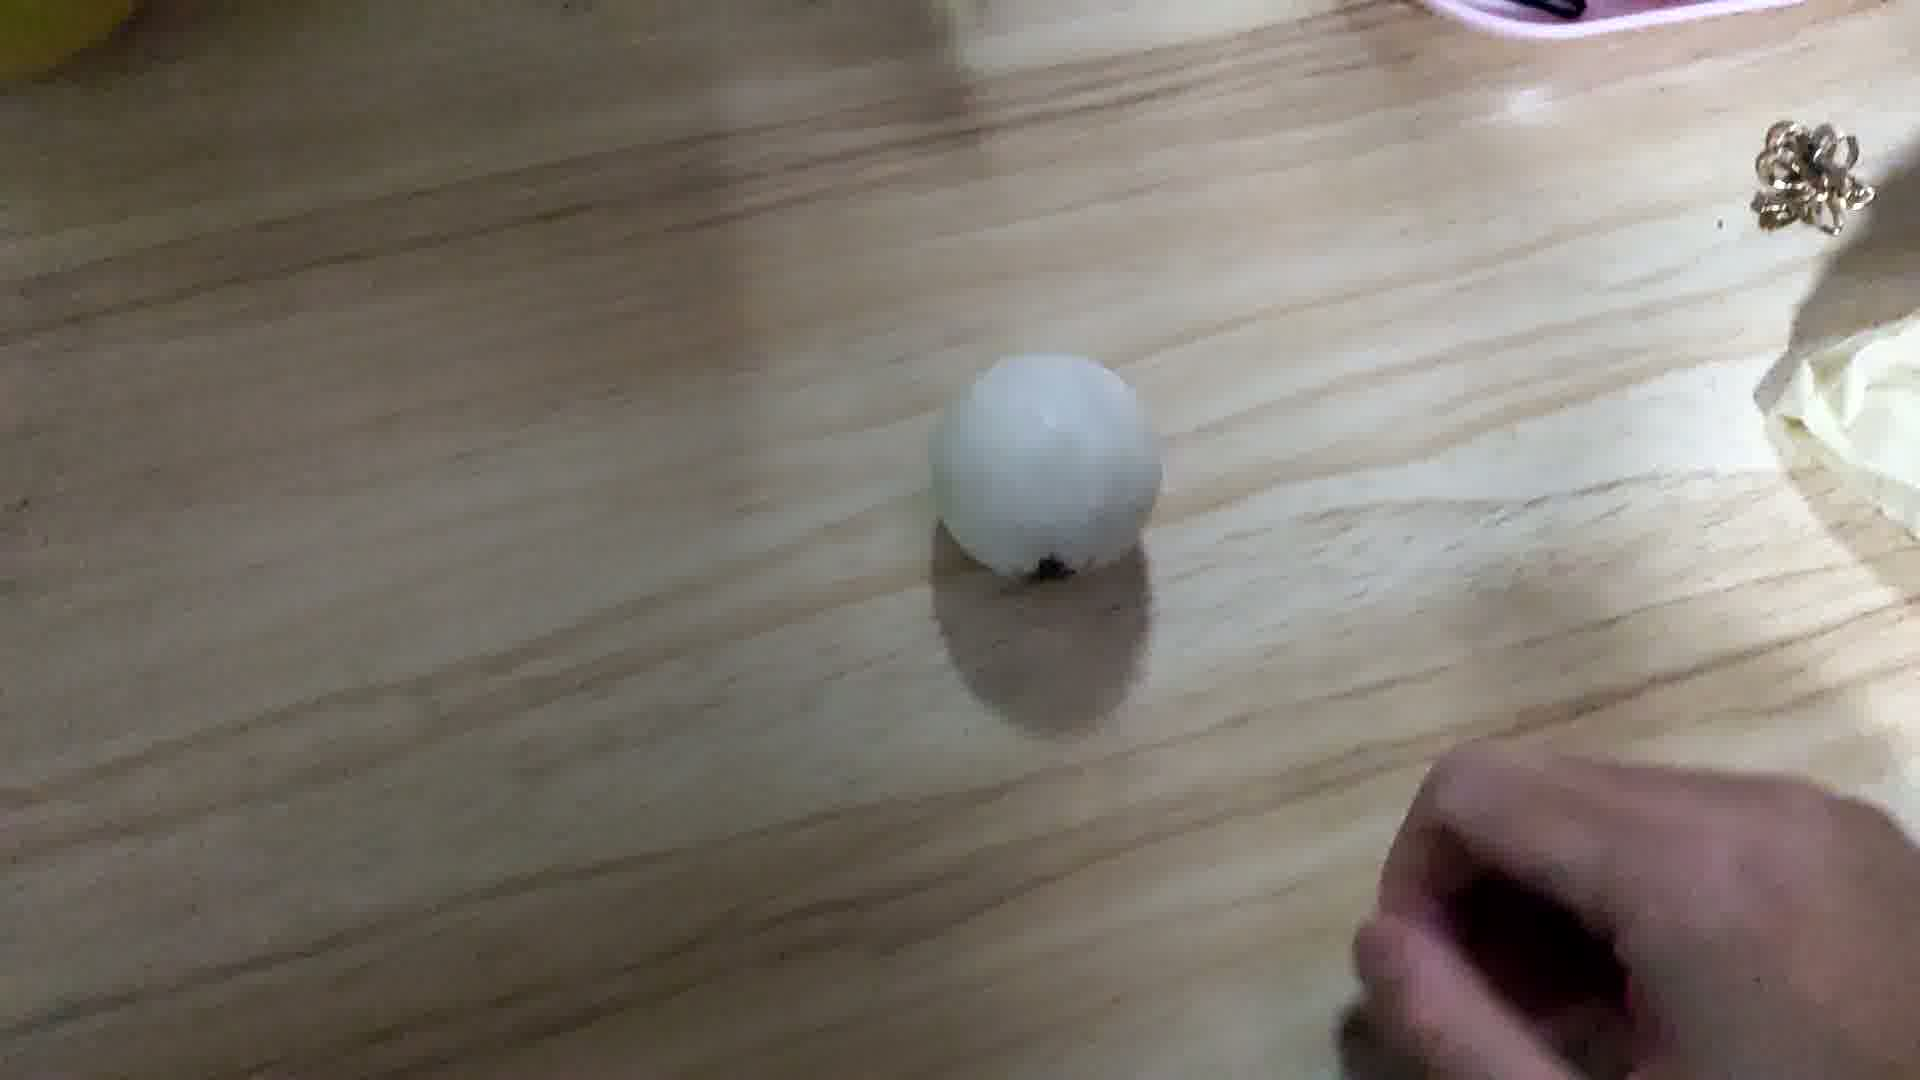Ball: (935, 349, 1164, 582)
